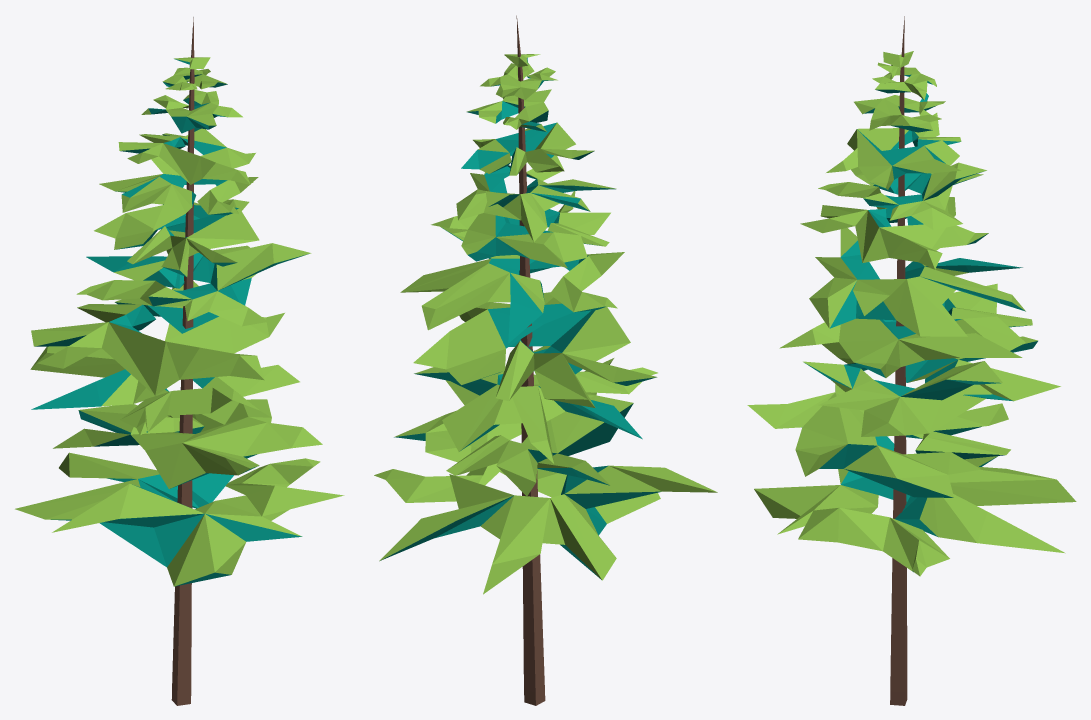
Rendered from tree3.glb.
The picture shows the model from 3 angles, left to right: view 1: azimuth 30°, elevation 25°; view 2: azimuth 150°, elevation 25°; view 3: azimuth 270°, elevation 25°; orthographic projection.
Visible parts, largest first — view 1: group1955150288; view 2: group1955150288; view 3: group1955150288.
Part boxes in pixels (x1,y1,x2,y2): group1955150288: [15, 17, 344, 705]; group1955150288: [374, 15, 717, 705]; group1955150288: [747, 16, 1076, 705].
Size of the model in its own units: 1.91 by 4.06 by 1.74.
